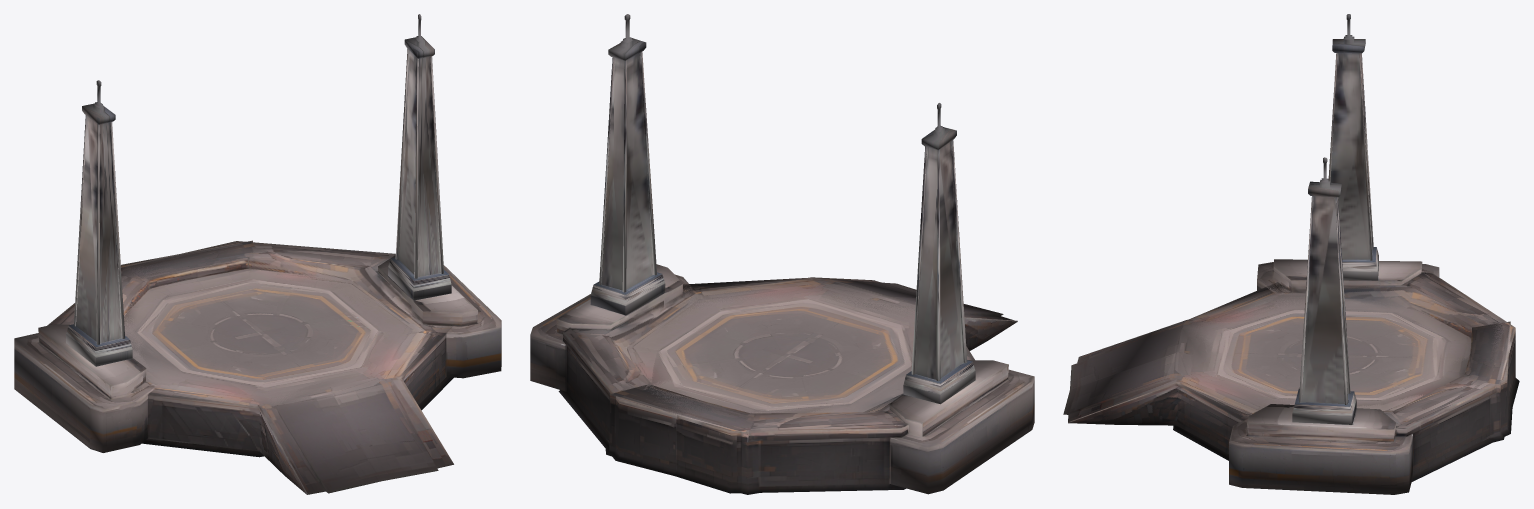
Rendered from launchpad.fbx.
3 renders of one model, left to right at view 1: azimuth 30°, elevation 25°; view 2: azimuth 150°, elevation 25°; view 3: azimuth 270°, elevation 25°, orthographic. The views are drawn at different scales.
Parts seen in each view (by area): view 1: Circle, Cube; view 2: Circle, Cube; view 3: Circle, Cube.
Part boxes in pixels (x1,y1,x2,y2): Circle: (14, 240, 501, 494); Cube: (66, 14, 451, 366); Circle: (530, 264, 1034, 494); Cube: (590, 14, 975, 404); Circle: (1063, 259, 1519, 494); Cube: (1292, 14, 1378, 424).
Bounding box in the file's own units: 0.9904 × 0.7642 × 1.
